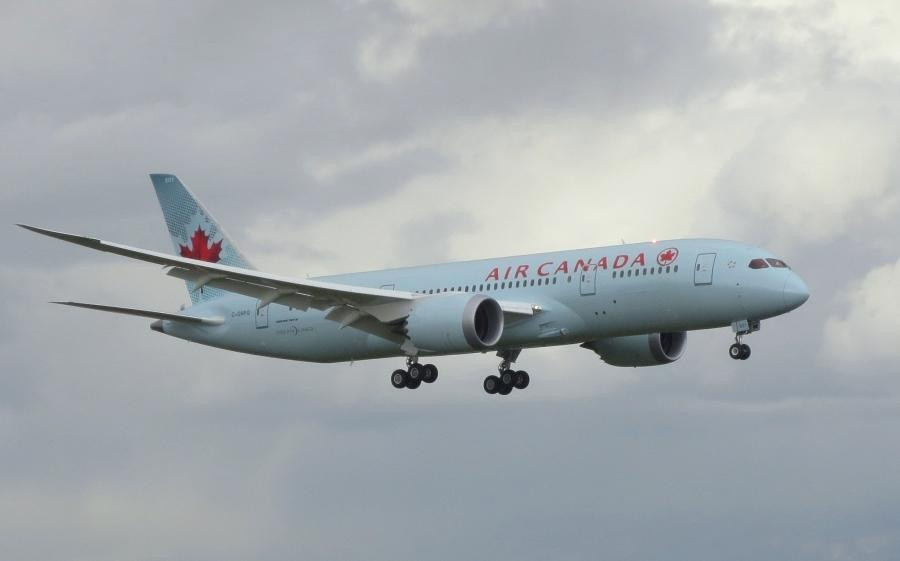airplane: (13, 170, 855, 399)
